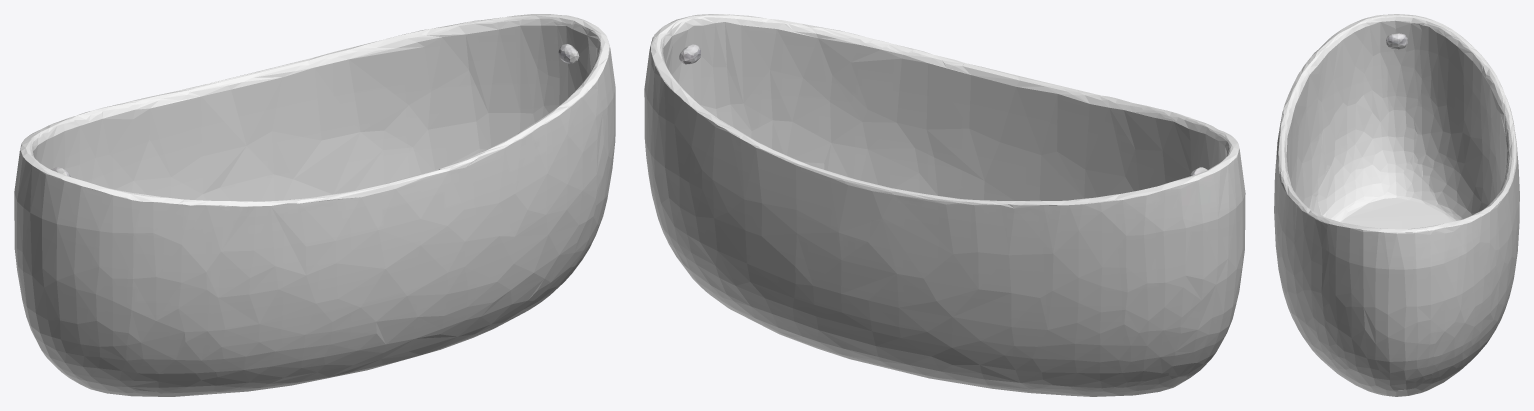
File: _OBvkGi4rldV0YPF8QDc5.glb
3 renders of one model, left to right at view 1: azimuth 30°, elevation 25°; view 2: azimuth 150°, elevation 25°; view 3: azimuth 270°, elevation 25°, orthographic. The views are drawn at different scales.
Visible parts, largest first — view 1: geometry_0; view 2: geometry_0; view 3: geometry_0.
Boxes of the visible parts, bbox=[...] form: geometry_0: bbox=[14, 14, 615, 396]; geometry_0: bbox=[644, 14, 1245, 396]; geometry_0: bbox=[1274, 14, 1519, 396].
Bounding box in the file's own units: 0.9983 × 0.3856 × 0.4663.
1 material, 1 textured.
